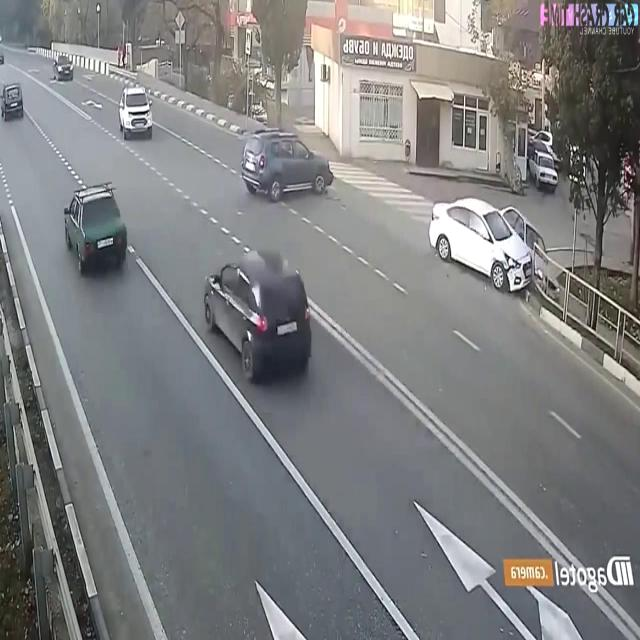accident: (427, 198, 563, 308)
non-accident: (521, 124, 563, 194)
